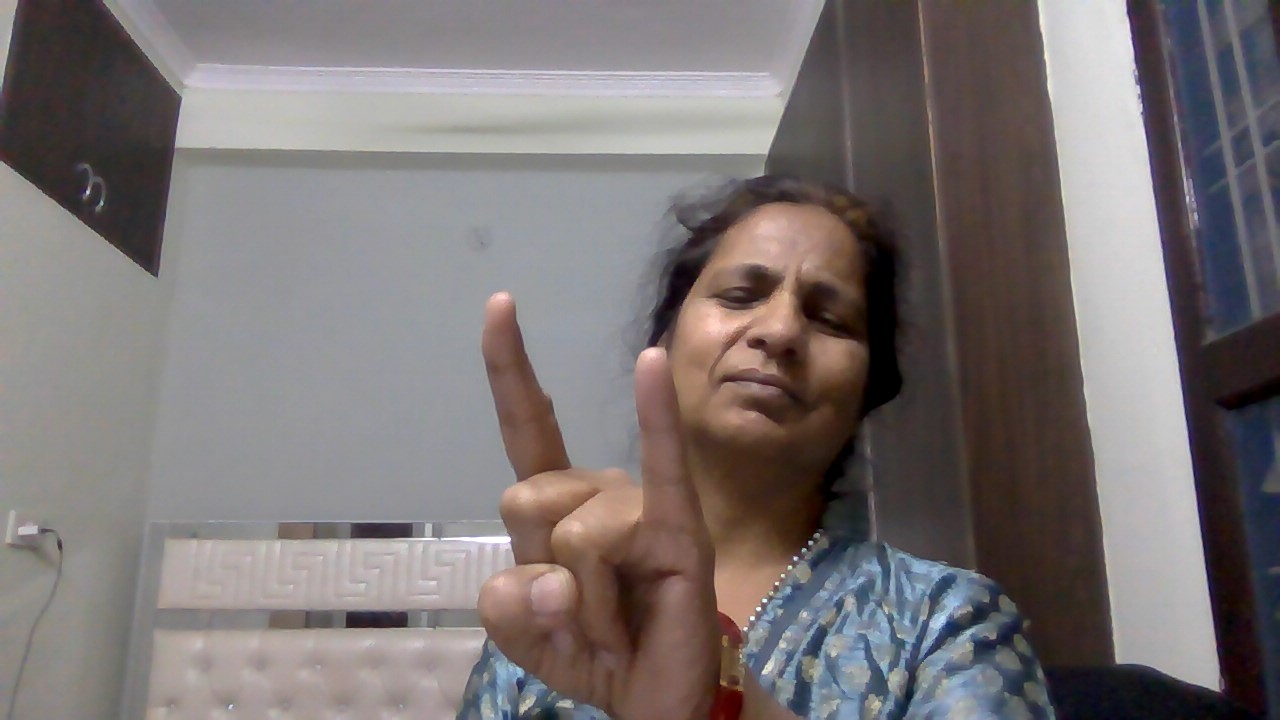Select All: (459, 277, 732, 720)
